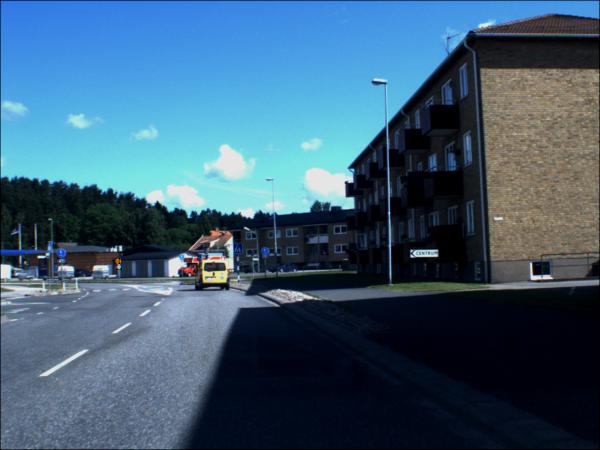50_SIGN: (117, 259, 123, 266)
PEDESTRIAN_CROSSING: (235, 245, 244, 255)
PRIORITY_ROAD: (118, 266, 124, 272)
